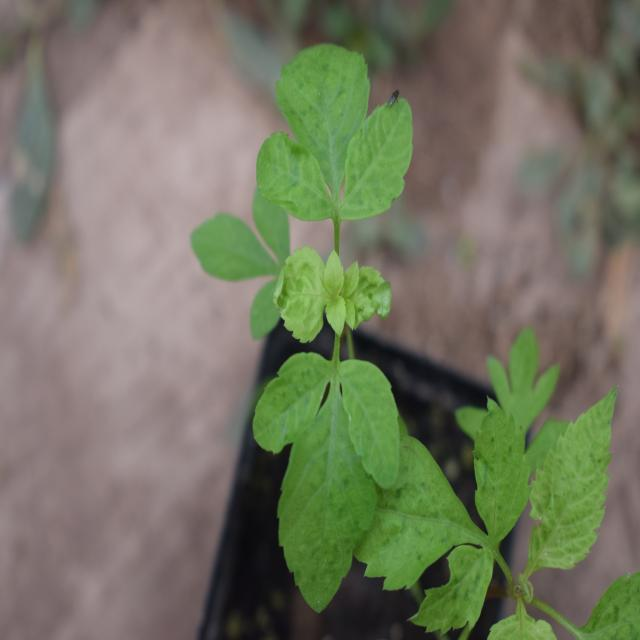Bidens pilosa: (193, 49, 429, 606), (368, 379, 636, 632)
